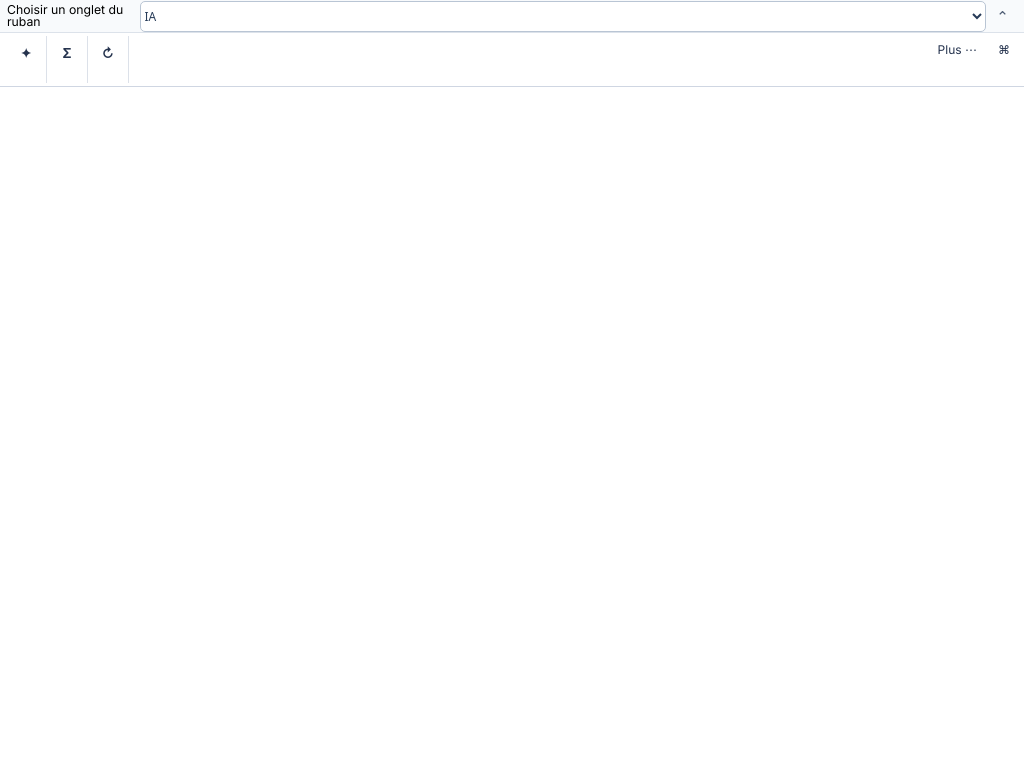
Test case: ResponsiveRibbon › à 320 px aucune commande IA n’est perdue : elle reste visible ou dans Plus
The width and height of the screenshot is (1024, 768).
Click the button "Plus ⋯" at (957, 50), box [930, 36, 985, 64]
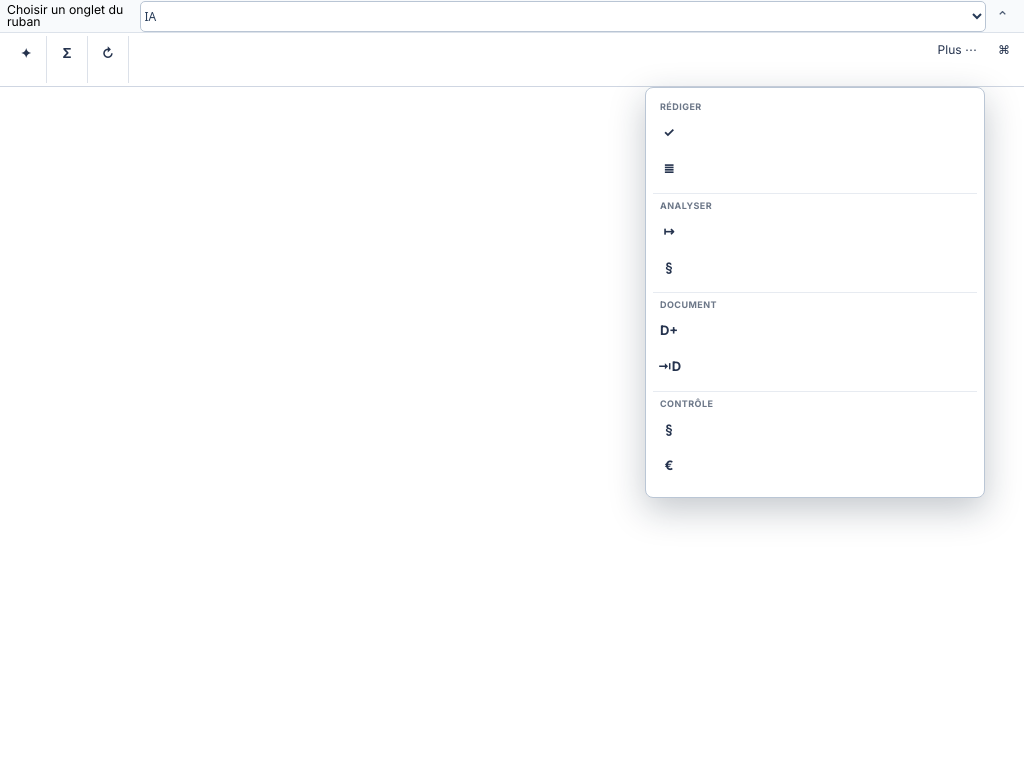
Check: the button named "Corriger le style et la langue" is shown, box [653, 114, 687, 150]
Check: the button named "Extraire une chronologie" is shown, box [653, 213, 687, 249]
Check: the button named "Proposer un plan" is shown, box [653, 150, 687, 186]
